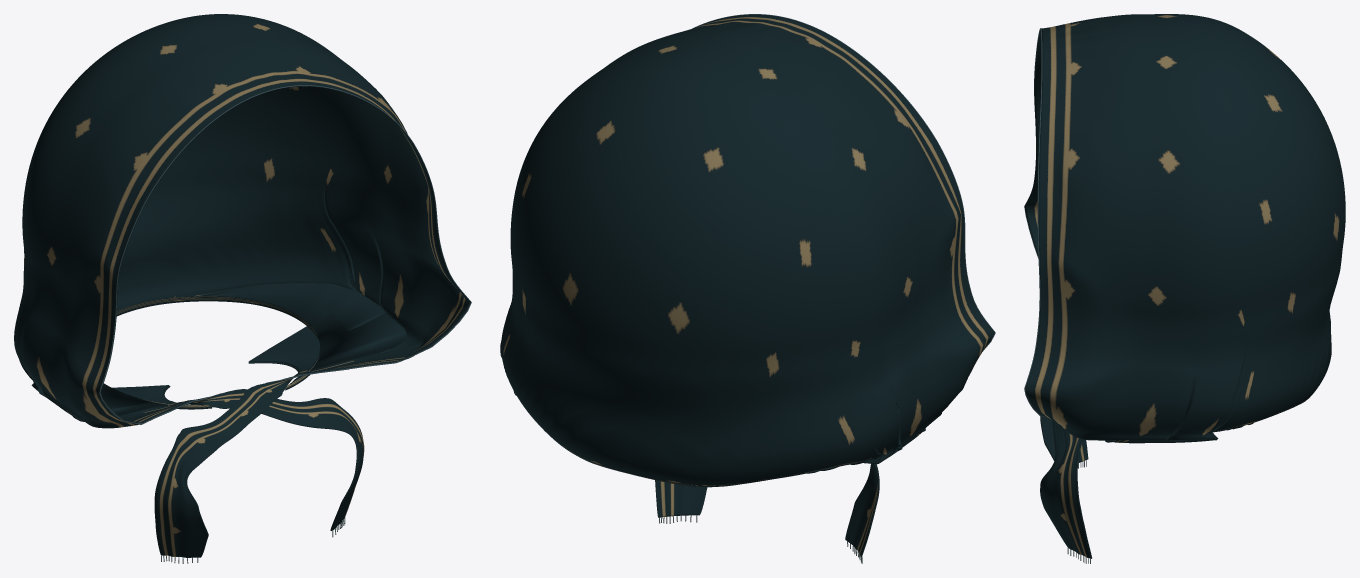
The model's file is Feminine-Feminine-curls-open-pashmina250-headgear-061ff4b7.glb.
The picture shows the model from 3 angles, left to right: view 1: azimuth 30°, elevation 25°; view 2: azimuth 150°, elevation 25°; view 3: azimuth 270°, elevation 25°; orthographic projection. The views are drawn at different scales.
Parts seen in each view (by area): view 1: 226 headgear / Headwear / continuous woven pashmina239, 226 headgear / Headwear / face edge239; view 2: 226 headgear / Headwear / continuous woven pashmina239, 226 headgear / Headwear / face edge239; view 3: 226 headgear / Headwear / continuous woven pashmina239, 226 headgear / Headwear / face edge239.
Part boxes in pixels (x1=…): 226 headgear / Headwear / continuous woven pashmina239: x1=14, y1=14, x2=470, y2=557; 226 headgear / Headwear / face edge239: x1=99, y1=85, x2=471, y2=424; 226 headgear / Headwear / continuous woven pashmina239: x1=500, y1=14, x2=994, y2=556; 226 headgear / Headwear / face edge239: x1=692, y1=14, x2=995, y2=351; 226 headgear / Headwear / continuous woven pashmina239: x1=1024, y1=14, x2=1345, y2=558; 226 headgear / Headwear / face edge239: x1=1024, y1=28, x2=1046, y2=417.
Bounding box in the file's own units: 1.02 × 1.24 × 0.74.
3 materials, 1 textured.
